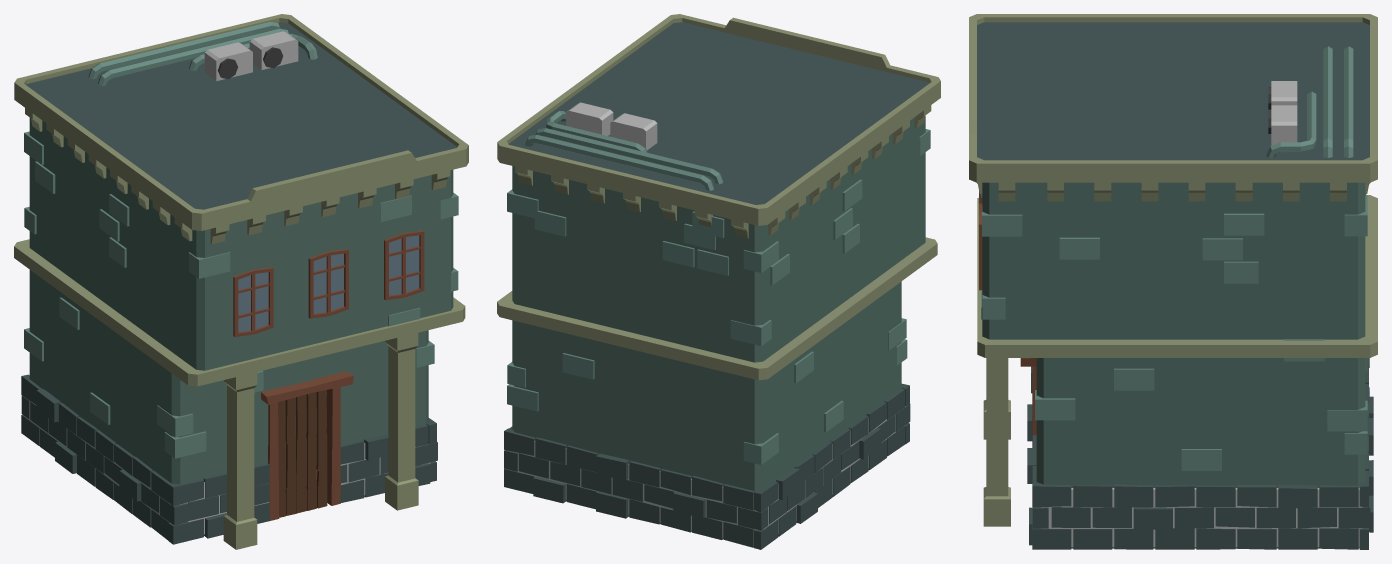
The model's file is bank.glb.
3 views of the same model, side by side, from view 1: azimuth 30°, elevation 25°; view 2: azimuth 150°, elevation 25°; view 3: azimuth 270°, elevation 25° (orthographic). The views are drawn at different scales.
Parts seen in each view (by area): view 1: 2Story_Columns_Mat; view 2: 2Story_Columns_Mat; view 3: 2Story_Columns_Mat.
Boxes of the visible parts, box(x1,y1,x2,y2) form: 2Story_Columns_Mat: box(14, 14, 468, 549); 2Story_Columns_Mat: box(497, 14, 940, 549); 2Story_Columns_Mat: box(969, 14, 1377, 549).
Size of the model in its own units: 2.16 by 2.77 by 2.49.
